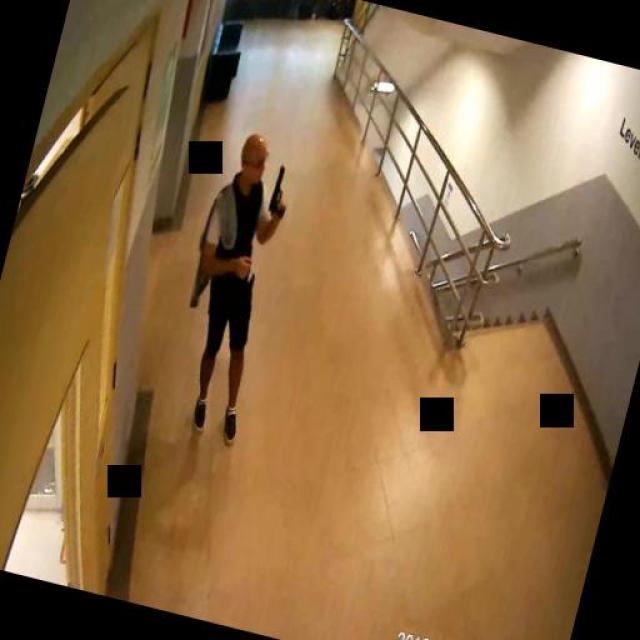gun: (266, 162, 295, 218)
